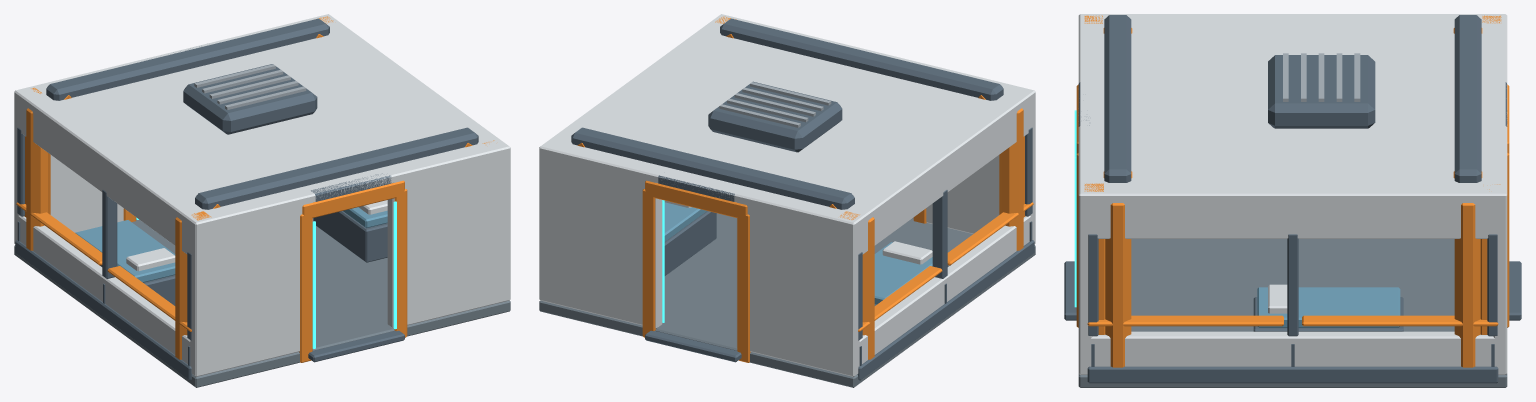
File: room-HabitatRoom.fbx
The picture shows the model from 3 angles, left to right: view 1: azimuth 30°, elevation 25°; view 2: azimuth 150°, elevation 25°; view 3: azimuth 270°, elevation 25°; orthographic projection. The views are drawn at different scales.
Parts seen in each view (by area): view 1: room-HabitatRoom_Roof.001, room-HabitatRoom_End panel.005, room-HabitatRoom_End panel.004, room-HabitatRoom_Deck.001, room-HabitatRoom_Window sill.002, room-HabitatRoom_Roof cross brace, room-HabitatRoom_Roof cross brace.001, room-HabitatRoom_Window head.002, room-HabitatRoom_Roof service pod, room-HabitatRoom_End panel.006, room-HabitatRoom_Lower armour band, room-HabitatRoom_Armoured corner post.002 (+22 smaller); view 2: room-HabitatRoom_Roof.001, room-HabitatRoom_End panel.007, room-HabitatRoom_End panel.006, room-HabitatRoom_Deck.001, room-HabitatRoom_Window sill.002, room-HabitatRoom_Roof cross brace.001, room-HabitatRoom_Roof cross brace, room-HabitatRoom_Window head.002, room-HabitatRoom_Roof service pod, room-HabitatRoom_End panel.004, room-HabitatRoom_Lower armour band, room-HabitatRoom_Armoured corner post (+19 smaller); view 3: room-HabitatRoom_Roof.001, room-HabitatRoom_Deck.001, room-HabitatRoom_Window head.003, room-HabitatRoom_Window sill.003, room-HabitatRoom_Lower armour band.001, room-HabitatRoom_Roof service pod, room-HabitatRoom_Roof cross brace, room-HabitatRoom_Roof cross brace.001, room-HabitatRoom_Mattress.003, room-HabitatRoom_Armoured corner post.001, room-HabitatRoom_Armoured corner post.003, room-HabitatRoom_Window lower trim.007 (+15 smaller).
Boxes of the visible parts, x1,y1,x2,y2 form: room-HabitatRoom_Roof.001: [14, 14, 510, 229]; room-HabitatRoom_End panel.005: [387, 153, 510, 328]; room-HabitatRoom_End panel.004: [190, 202, 313, 376]; room-HabitatRoom_Deck.001: [14, 219, 510, 387]; room-HabitatRoom_Window sill.002: [14, 213, 196, 375]; room-HabitatRoom_Roof cross brace: [195, 127, 478, 209]; room-HabitatRoom_Roof cross brace.001: [46, 18, 329, 100]; room-HabitatRoom_Window head.002: [14, 98, 204, 259]; room-HabitatRoom_Roof service pod: [183, 64, 317, 134]; room-HabitatRoom_End panel.006: [14, 128, 123, 243]; room-HabitatRoom_Lower armour band: [15, 240, 192, 380]; room-HabitatRoom_Armoured corner post.002: [26, 108, 50, 250]; room-HabitatRoom_Roof.001: [539, 14, 1035, 230]; room-HabitatRoom_End panel.007: [539, 153, 662, 328]; room-HabitatRoom_End panel.006: [736, 202, 859, 376]; room-HabitatRoom_Deck.001: [539, 213, 1035, 387]; room-HabitatRoom_Window sill.002: [853, 213, 1035, 376]; room-HabitatRoom_Roof cross brace.001: [571, 127, 854, 209]; room-HabitatRoom_Roof cross brace: [720, 18, 1003, 100]; room-HabitatRoom_Window head.002: [845, 98, 1035, 259]; room-HabitatRoom_Roof service pod: [708, 81, 842, 152]; room-HabitatRoom_End panel.004: [913, 101, 1035, 233]; room-HabitatRoom_Lower armour band: [857, 240, 1034, 380]; room-HabitatRoom_Armoured corner post: [999, 108, 1023, 250]; room-HabitatRoom_Roof.001: [1078, 14, 1507, 203]; room-HabitatRoom_Deck.001: [1078, 239, 1507, 387]; room-HabitatRoom_Window head.003: [1078, 202, 1507, 238]; room-HabitatRoom_Window sill.003: [1078, 331, 1505, 374]; room-HabitatRoom_Lower armour band.001: [1087, 366, 1498, 383]; room-HabitatRoom_Roof service pod: [1268, 55, 1375, 128]; room-HabitatRoom_Roof cross brace: [1104, 15, 1131, 182]; room-HabitatRoom_Roof cross brace.001: [1454, 15, 1481, 182]; room-HabitatRoom_Mattress.003: [1257, 287, 1400, 327]; room-HabitatRoom_Armoured corner post.001: [1105, 203, 1131, 367]; room-HabitatRoom_Armoured corner post.003: [1454, 203, 1480, 367]; room-HabitatRoom_Window lower trim.007: [1302, 315, 1498, 326].
Size of the model in its own units: 610 by 343 by 640.
